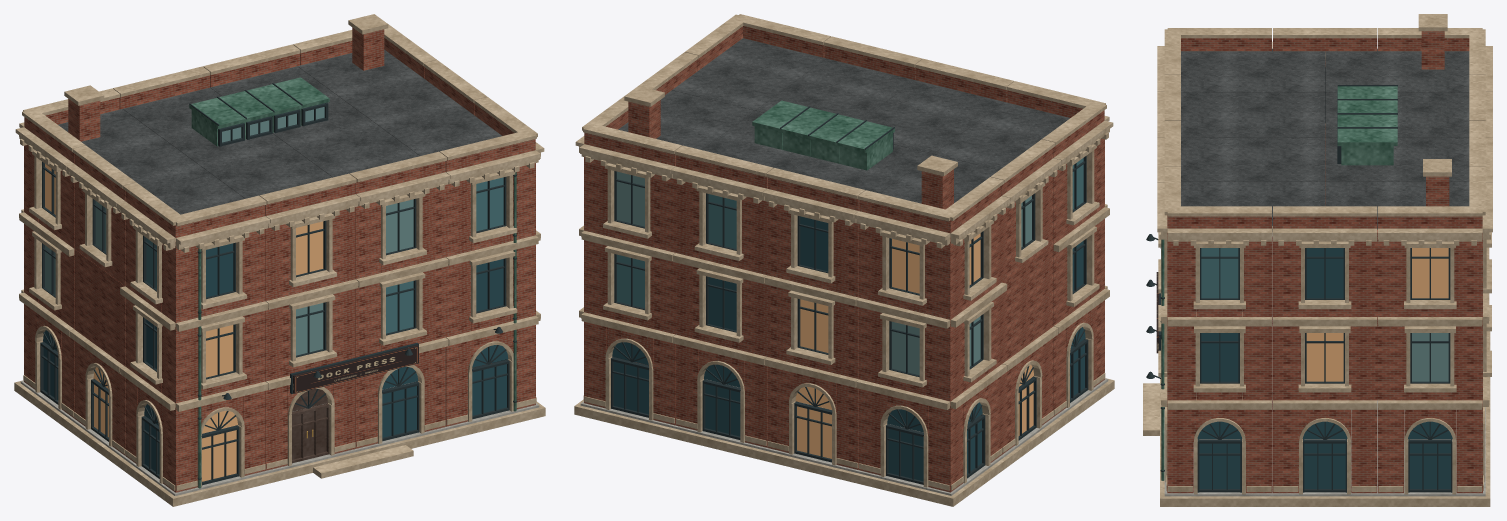
Rendered from DockPress_Intact.glb.
3 views of the same model, side by side, from view 1: azimuth 30°, elevation 25°; view 2: azimuth 150°, elevation 25°; view 3: azimuth 270°, elevation 25° (orthographic). The views are drawn at different scales.
Visible parts, largest first — view 1: DockPress_Geometry; view 2: DockPress_Geometry; view 3: DockPress_Geometry.
Boxes of the visible parts, bbox=[...] form: DockPress_Geometry: bbox=[14, 14, 545, 506]; DockPress_Geometry: bbox=[574, 14, 1114, 506]; DockPress_Geometry: bbox=[1143, 14, 1492, 506].
Size of the model in its own units: 15.48 by 12.04 by 11.96.
17 materials, 9 textured.
